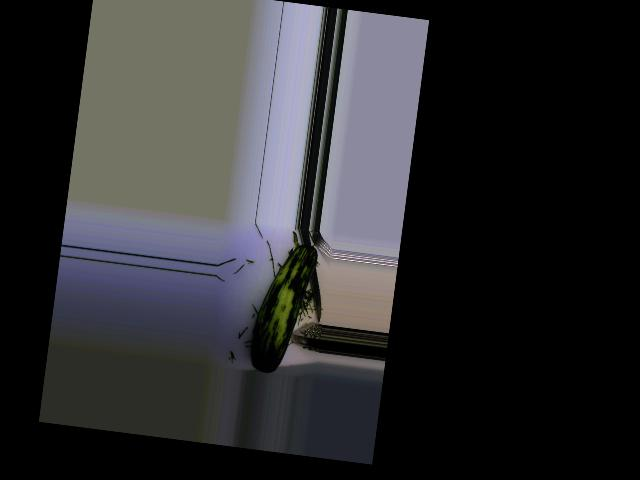cucumber: (247, 238, 319, 377)
